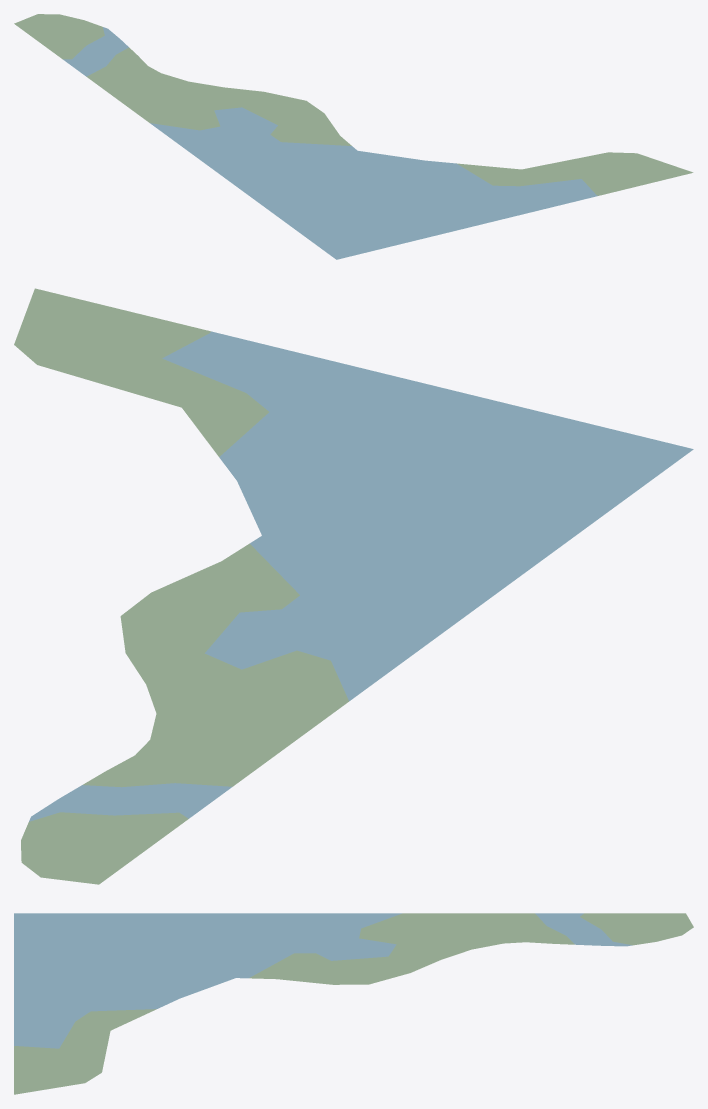
Rendered from -2_8-known-fine.glb.
The picture shows the model from 3 angles, top to bottom: view 1: azimuth 30°, elevation 25°; view 2: azimuth 150°, elevation 25°; view 3: azimuth 270°, elevation 25°; orthographic projection. The views are drawn at different scales.
Bounding box in the file's own units: 414 × 0 × 655.
